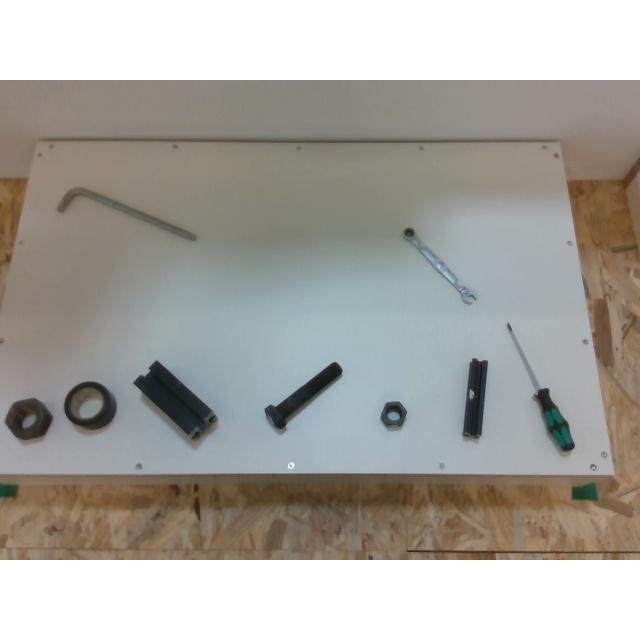AllenKey: (56, 187, 196, 241)
F20_20_B: (463, 358, 487, 438)
M20: (380, 401, 406, 429)
M20_100: (265, 362, 341, 431)
M30: (4, 398, 52, 438)
S40_40_B: (134, 361, 216, 439)
Screwdriver: (506, 321, 574, 451)
Wrench: (402, 228, 476, 304)
